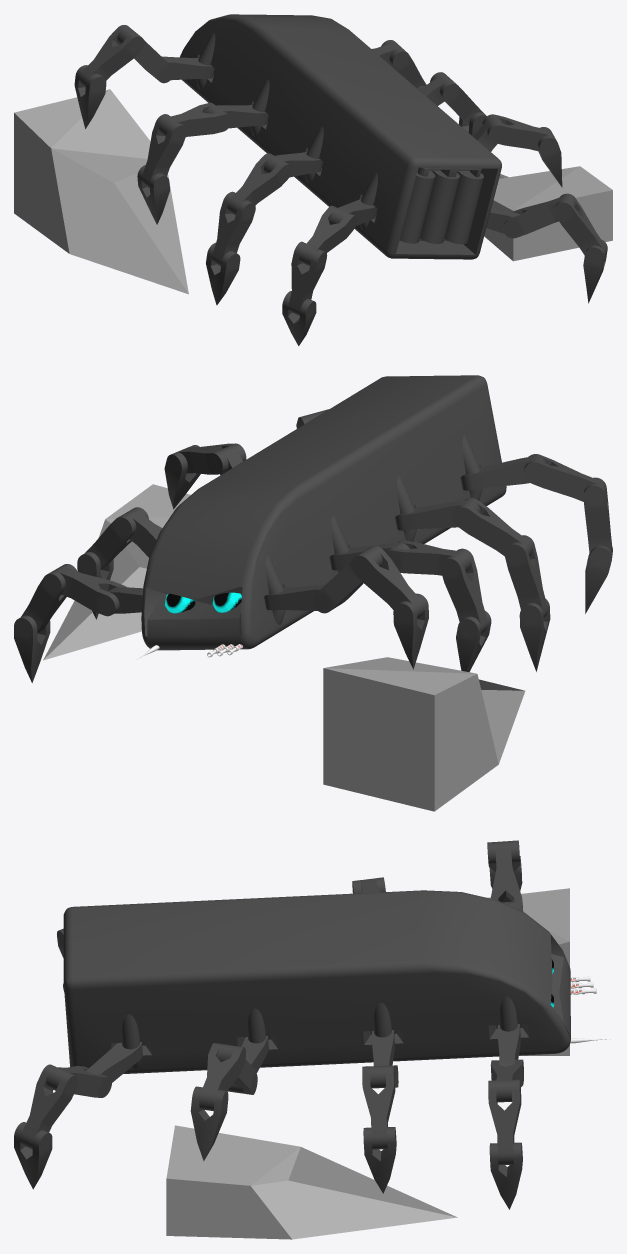
Rendered from hound.glb.
3 views of the same model, one above another, from view 1: azimuth 30°, elevation 25°; view 2: azimuth 150°, elevation 25°; view 3: azimuth 270°, elevation 25° (orthographic). The views are drawn at different scales.
Parts seen in each view (by area): view 1: Body.001; view 2: Body.001; view 3: Body.001.
Part boxes in pixels (x1,y1,x2,y2): Body.001: [14, 14, 612, 345]; Body.001: [14, 375, 612, 811]; Body.001: [14, 840, 610, 1239].
Bounding box in the file's own units: 4.44 × 1.87 × 4.75.
6 materials, 1 textured.
